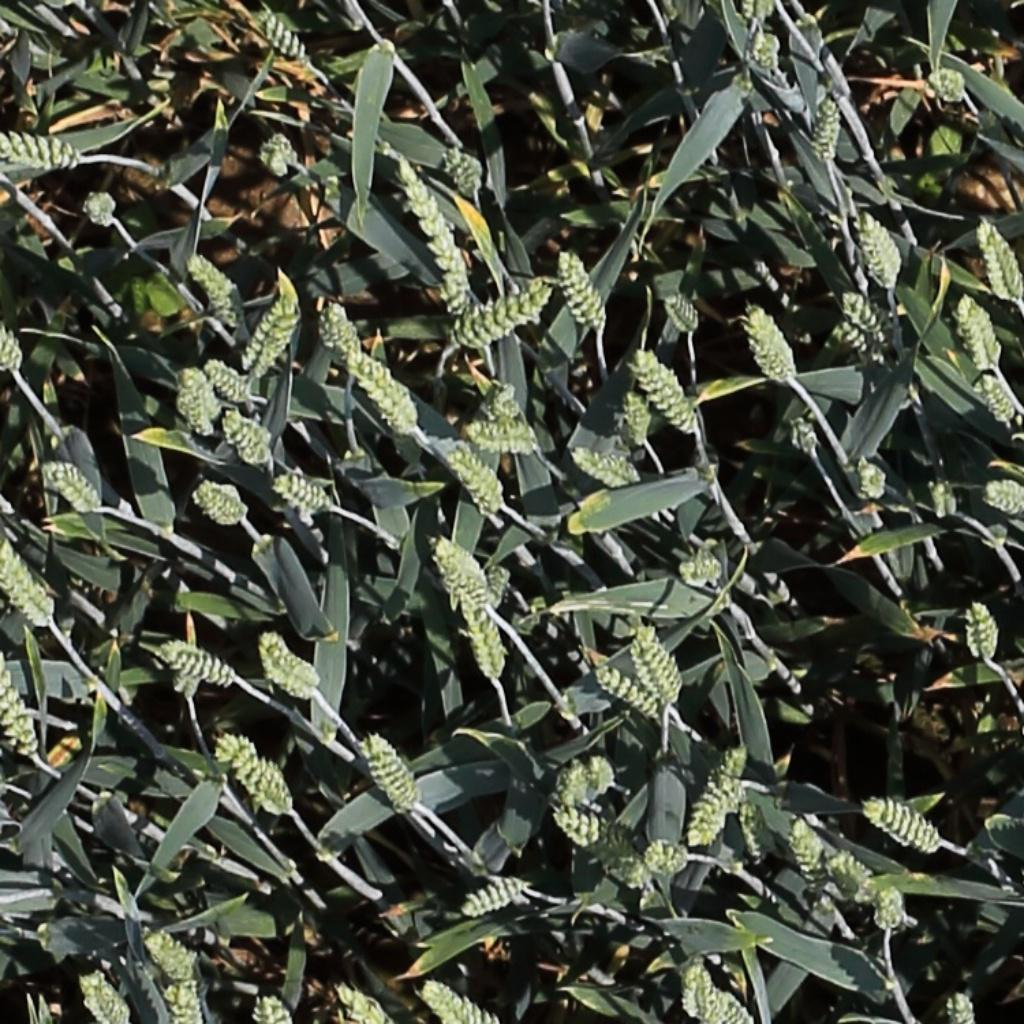0-0: (391, 131, 478, 299), (537, 810, 652, 889), (242, 257, 315, 370), (452, 273, 552, 350), (973, 188, 1024, 314), (229, 746, 310, 824), (684, 740, 747, 839), (347, 354, 422, 436), (634, 347, 704, 430), (128, 918, 214, 983), (402, 975, 516, 1024), (430, 539, 498, 621), (862, 790, 945, 856), (258, 632, 327, 709), (434, 437, 504, 509), (358, 732, 419, 812), (458, 590, 509, 684), (0, 551, 57, 635), (832, 294, 896, 366), (61, 964, 137, 1024), (559, 246, 612, 332), (185, 252, 246, 324), (630, 626, 683, 708), (745, 308, 798, 387), (0, 662, 36, 776), (654, 963, 720, 1024), (857, 207, 906, 288), (955, 294, 1005, 373), (791, 790, 836, 873), (0, 131, 86, 174), (559, 751, 619, 811), (589, 665, 660, 715), (253, 6, 314, 64), (465, 422, 559, 458), (473, 377, 534, 430), (174, 366, 219, 436), (816, 77, 849, 170), (455, 874, 531, 914), (157, 645, 236, 683), (192, 477, 252, 527), (318, 298, 363, 364), (734, 26, 787, 82), (819, 845, 880, 893), (975, 373, 1023, 433), (223, 409, 278, 461), (240, 986, 314, 1024), (159, 978, 222, 1022), (256, 125, 306, 180), (39, 464, 98, 510), (332, 978, 391, 1024), (439, 124, 487, 178), (738, 784, 772, 860), (694, 985, 759, 1024), (572, 449, 643, 484), (866, 885, 920, 930), (965, 590, 998, 660), (929, 64, 976, 113), (0, 303, 26, 383), (929, 992, 994, 1024), (274, 476, 335, 510), (676, 545, 730, 583), (642, 840, 688, 881), (80, 184, 120, 231), (201, 362, 251, 399), (662, 282, 703, 327), (623, 385, 653, 446), (854, 448, 890, 498), (981, 483, 1024, 521), (685, 849, 709, 914), (931, 472, 961, 521), (789, 417, 823, 459), (946, 873, 976, 914)
